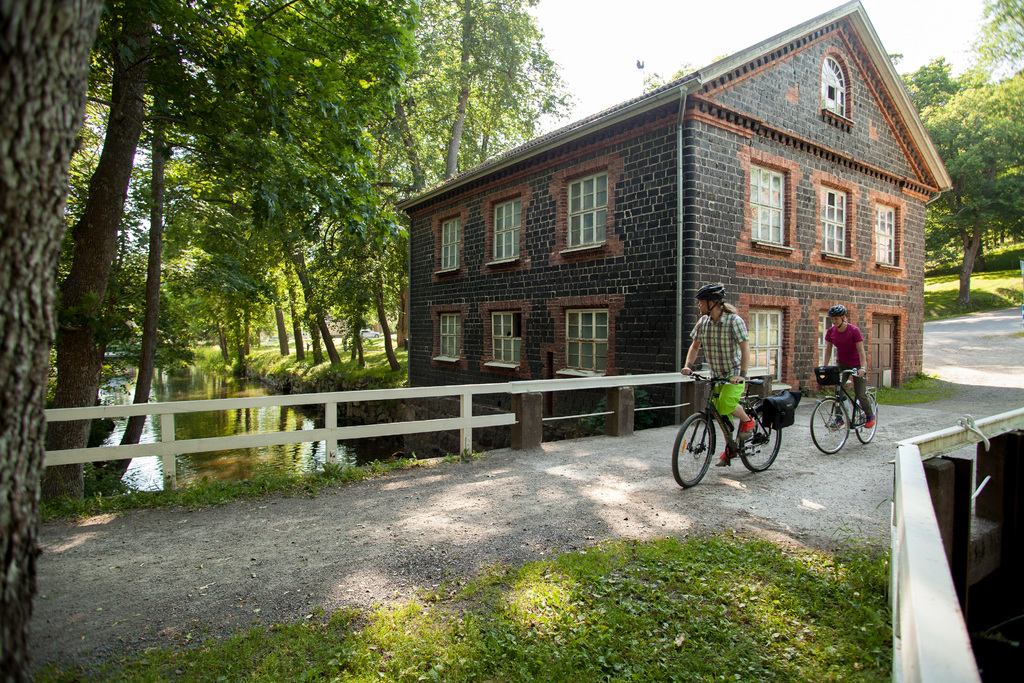Bike_toward: (671, 366, 793, 488), (813, 366, 882, 456)
